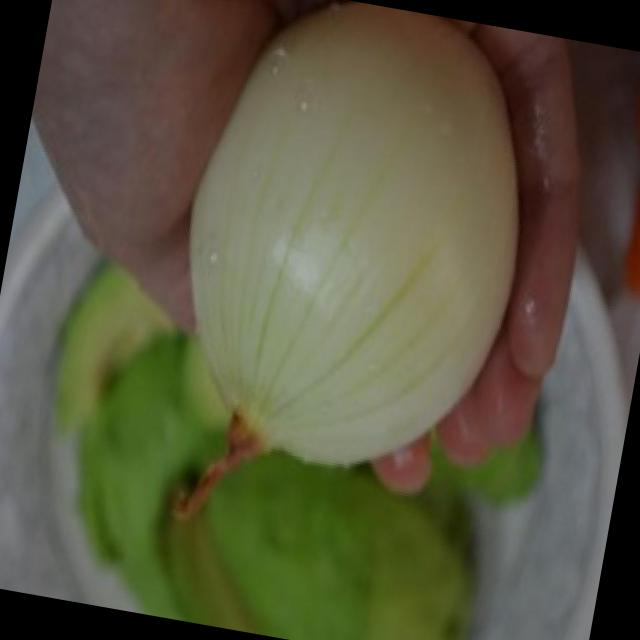Onion: (134, 0, 562, 528)
